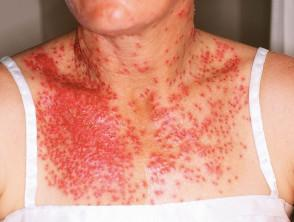Eczema: (37, 79, 148, 204), (154, 53, 249, 196), (43, 47, 129, 78)
